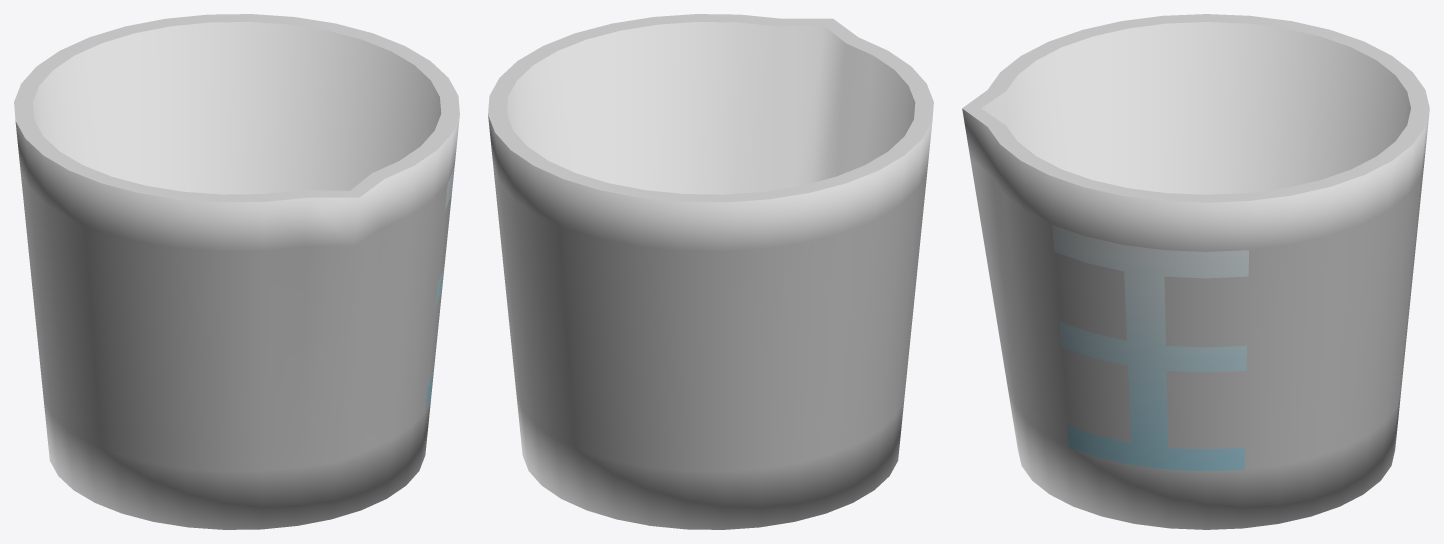
File: beacker.fbx
3 views of the same model, side by side, from view 1: azimuth 30°, elevation 25°; view 2: azimuth 150°, elevation 25°; view 3: azimuth 270°, elevation 25° (orthographic).
Parts seen in each view (by area): view 1: Cylinder; view 2: Cylinder; view 3: Cylinder.
Boxes of the visible parts, <box> form: Cylinder: <box>14,14,459,529</box>; Cylinder: <box>488,14,933,529</box>; Cylinder: <box>962,14,1429,529</box>.
Bounding box in the file's own units: 237 × 200 × 248.
